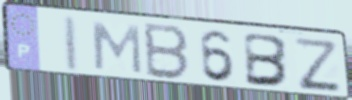6: (199, 28, 237, 85)
B: (143, 20, 191, 82), (243, 31, 292, 89)
I: (63, 14, 82, 75)
M: (91, 20, 145, 77)
Z: (290, 35, 344, 92)
